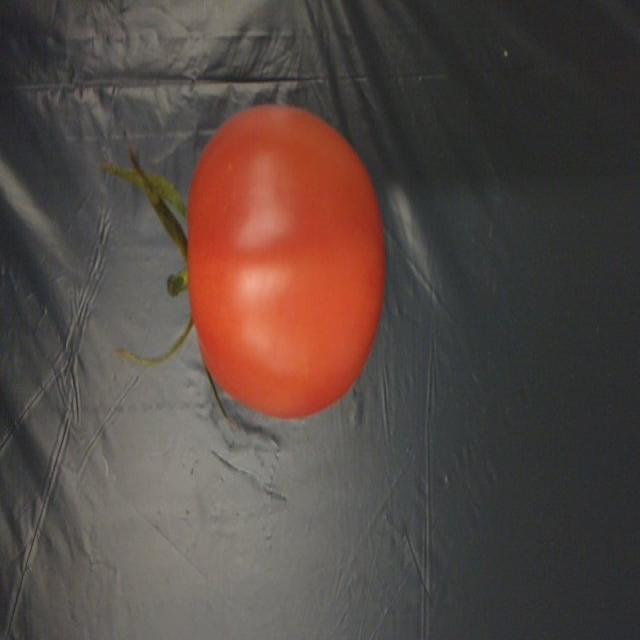kirmizi: (160, 96, 393, 430)
